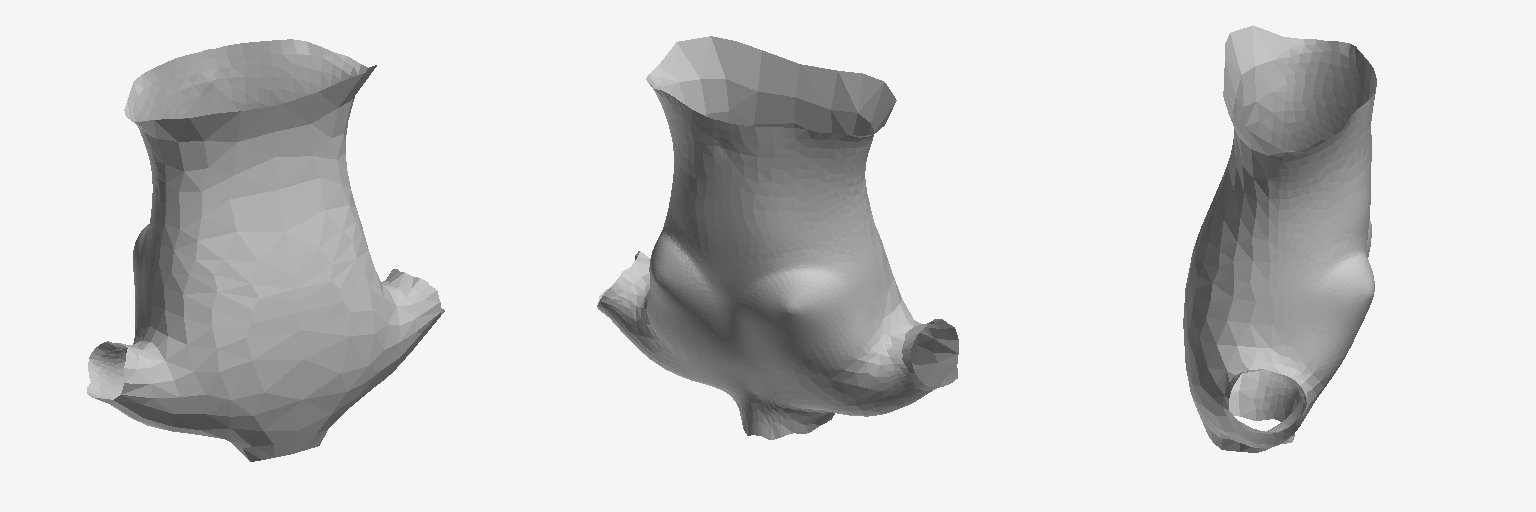
The model's file is fitModel_Jg.obj.
3 renders of one model, left to right at view 1: azimuth 30°, elevation 25°; view 2: azimuth 150°, elevation 25°; view 3: azimuth 270°, elevation 25°, orthographic.
Size of the model in its own units: 52.43 by 51.29 by 24.86.